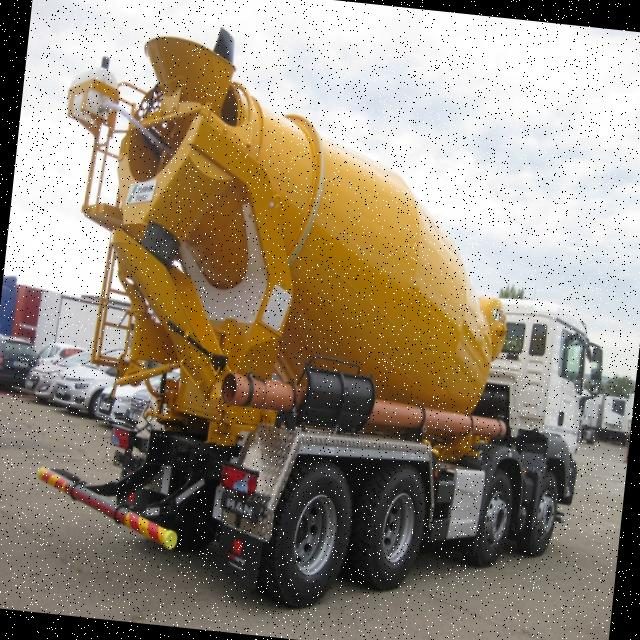Mixer Truck: (16, 12, 634, 639)
